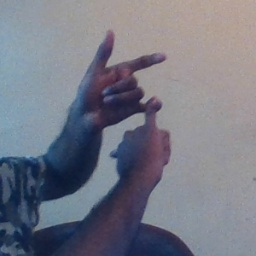S: (73, 23, 188, 179)
